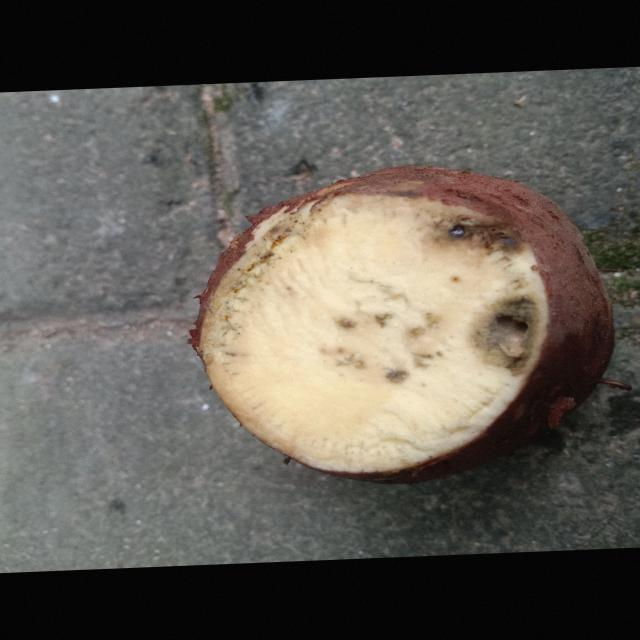Sick Sweet Potato_Tuber Rot: (198, 194, 547, 474)
